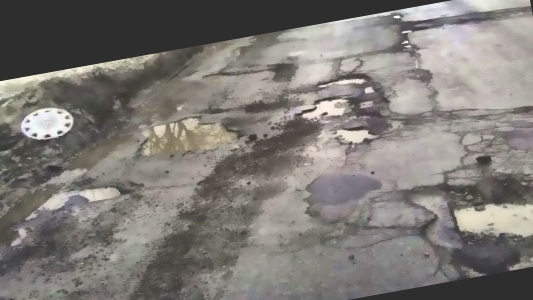pothole: (439, 161, 533, 255), (133, 107, 244, 163), (296, 91, 350, 123), (75, 179, 124, 206), (313, 70, 369, 93), (333, 120, 379, 147)
